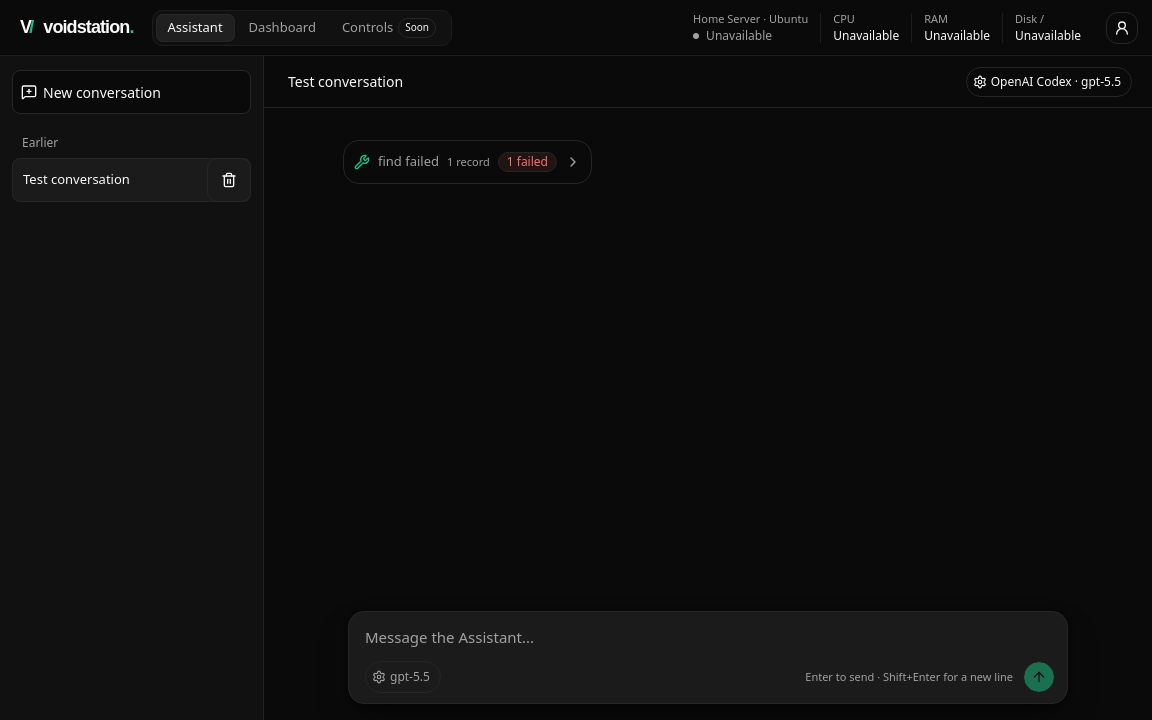
Test case: keeps standalone legacy media evidence in an inline disclosure
Check: the text box labelled "Message the Assistant" is enabled, box [365,624,1055,657]
Check: the button "OpenAI Codex · gpt-5.5" is shown, box [966,66,1132,96]
Step 1. Click the button "find failed 1 record 1 failed" → (468, 162), box [343,140,592,184]
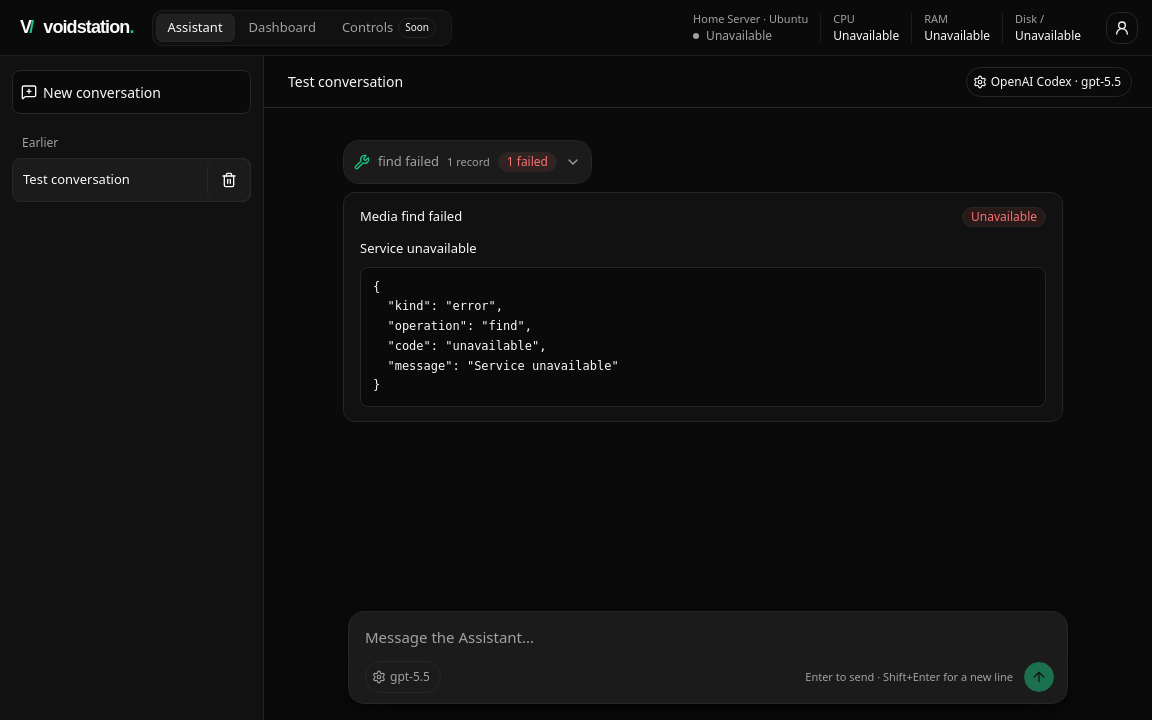
Check: the text "Service unavailable" is shown, box [360,239,477,257]
Check: the text "\"code\": \"unavailable\"" is shown, box [373,280,619,392]
